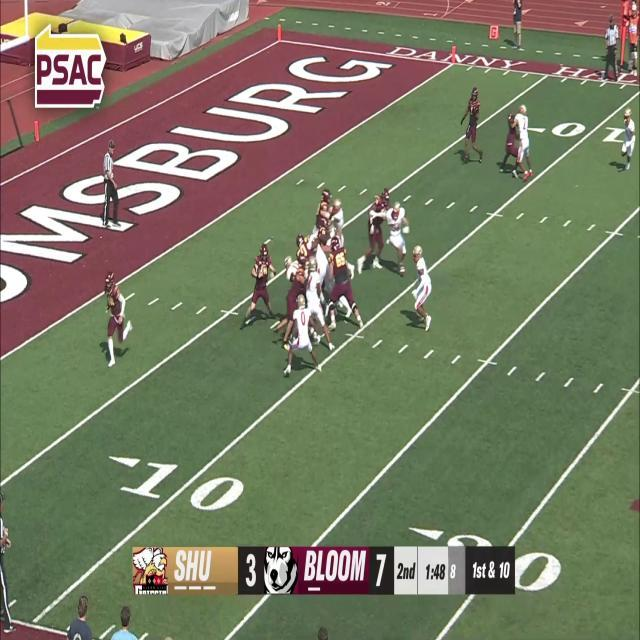football: (256, 266, 264, 279)
